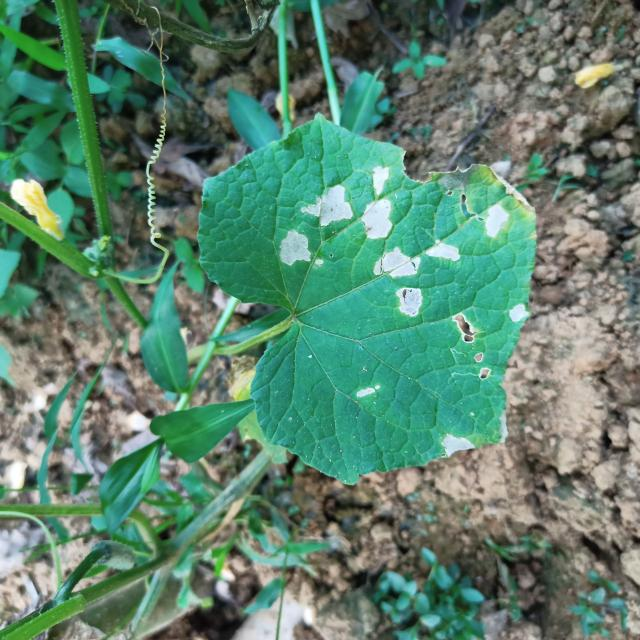disease_cucumber: (373, 248, 425, 322), (451, 315, 492, 382), (361, 164, 395, 242), (276, 228, 327, 275), (299, 186, 354, 228), (423, 239, 463, 267), (439, 430, 477, 458), (483, 205, 511, 240), (350, 385, 385, 399), (507, 301, 528, 324)
